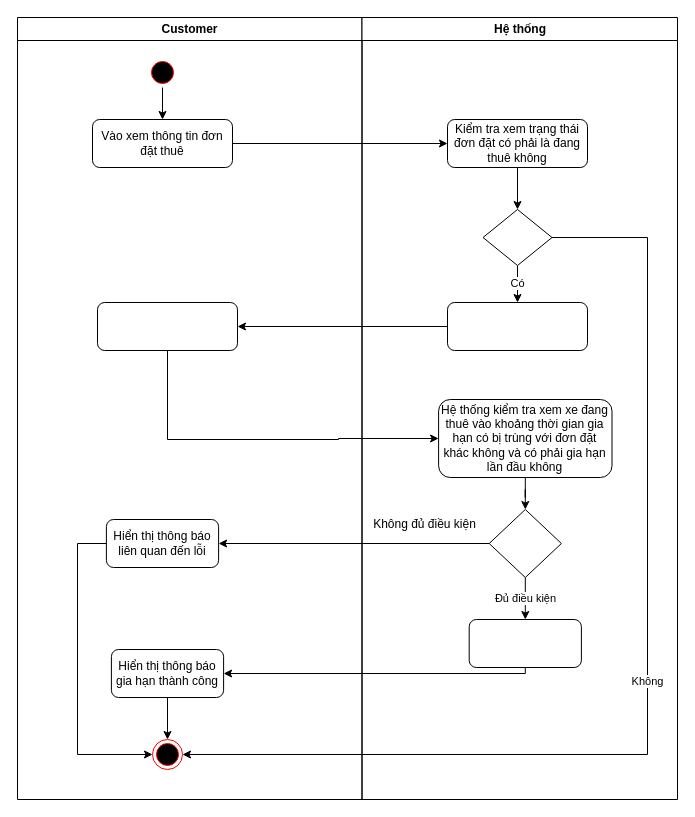
This 695x817 diagram has some shape labels left out. The box of each missing label's shape, as (x1, y1, x2, y2) in pixels:
Hiển thị button cho gia hạn: (446, 302, 588, 350)
Khách hàng click và điền thông tin ngày gia hạn đơn đặt: (96, 302, 238, 350)
Lưu thông tin mới của đơn đạt về thời gian và giá tiền: (468, 618, 581, 668)
